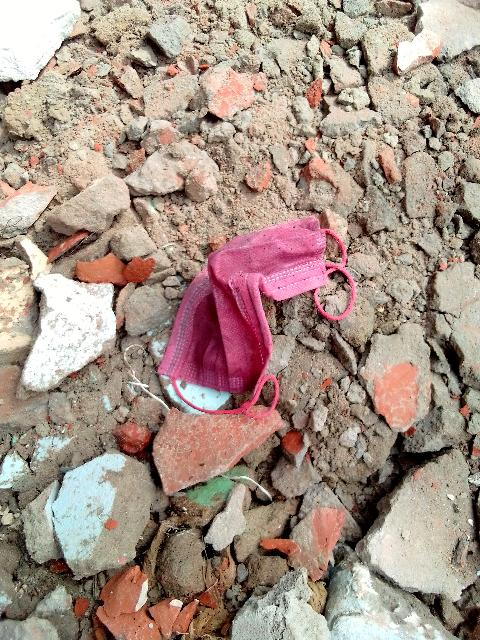mask: (166, 217, 345, 379)
